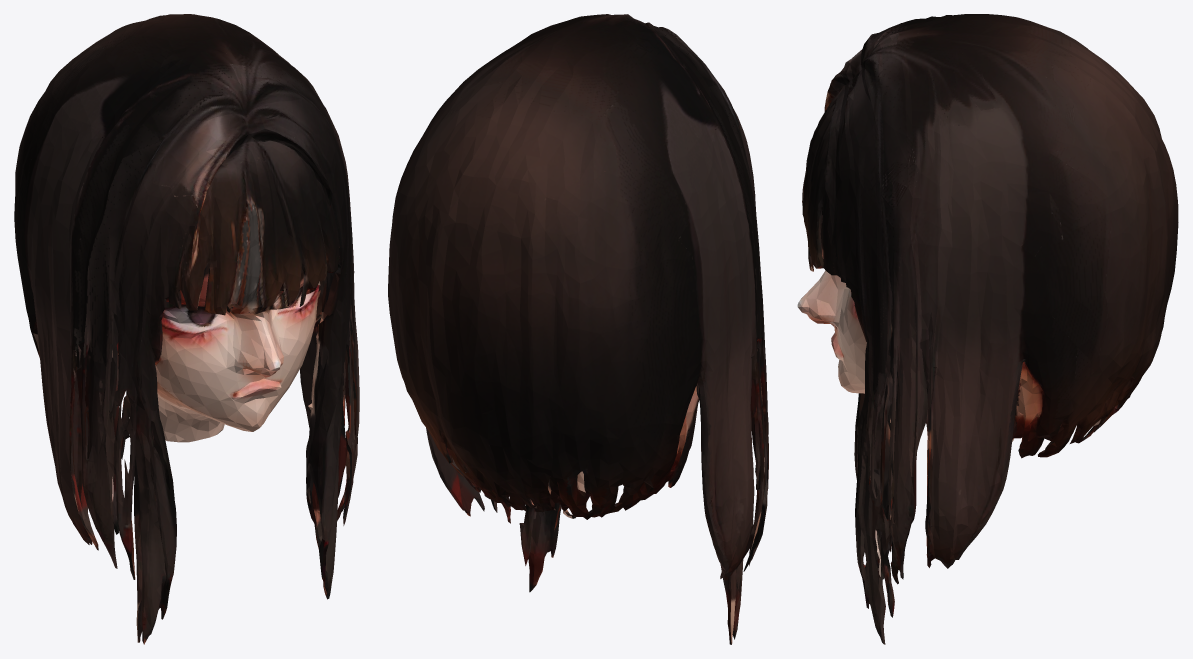
File: side_shiko_repaired_atlas.glb
3 renders of one model, left to right at view 1: azimuth 30°, elevation 25°; view 2: azimuth 150°, elevation 25°; view 3: azimuth 270°, elevation 25°, orthographic. The views are drawn at different scales.
Parts seen in each view (by area): view 1: temp_mesh.ply; view 2: temp_mesh.ply; view 3: temp_mesh.ply.
Part boxes in pixels (box(x1,y1,x2,y2)): temp_mesh.ply: box(14, 14, 359, 644); temp_mesh.ply: box(388, 14, 768, 644); temp_mesh.ply: box(797, 14, 1178, 644).
Size of the model in its own units: 1.05 by 1.97 by 1.19.
1 material, 1 textured.
